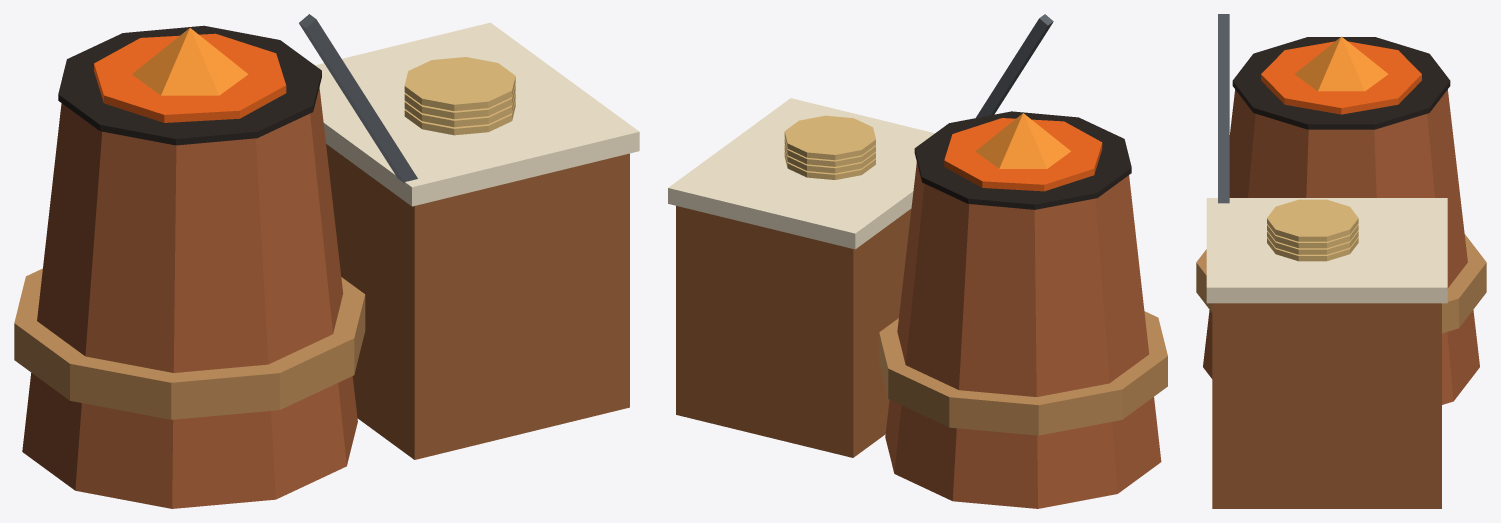
The model's file is station_tandoor.glb.
3 views of the same model, side by side, from view 1: azimuth 30°, elevation 25°; view 2: azimuth 150°, elevation 25°; view 3: azimuth 270°, elevation 25° (orthographic). The views are drawn at different scales.
Visible parts, largest first — view 1: station_tandoor; view 2: station_tandoor; view 3: station_tandoor.
Part boxes in pixels (x1,y1,x2,y2): station_tandoor: [14, 14, 639, 508]; station_tandoor: [668, 14, 1167, 508]; station_tandoor: [1196, 14, 1486, 508].
Bounding box in the file's own units: 1.67 × 1.43 × 1.01.
Materials: 1 (1 with a texture image).
